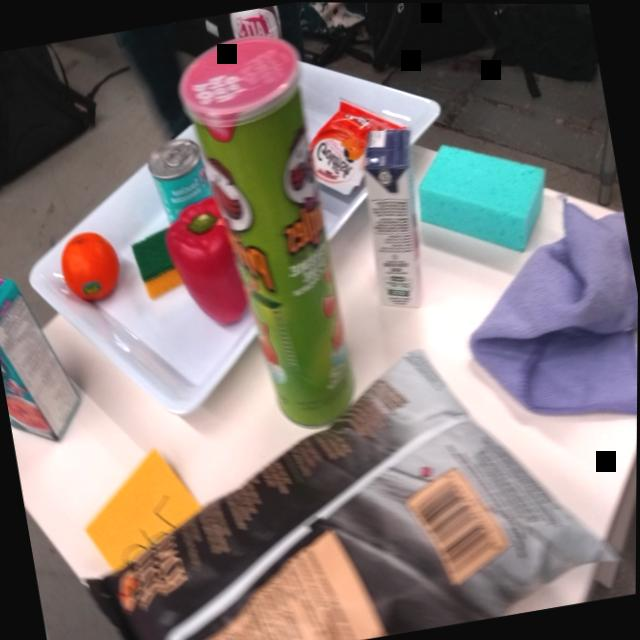cereal: (0, 240, 88, 446)
crackers: (302, 97, 376, 199)
grape_juice: (351, 122, 442, 317)
orange: (52, 223, 129, 313)
paprika: (159, 185, 248, 333)
potato_chips: (77, 335, 587, 640)
pringles: (175, 13, 367, 433)
sausages: (144, 133, 214, 221)
scrubby: (125, 223, 187, 307)
sponge_opl: (408, 125, 559, 254)
